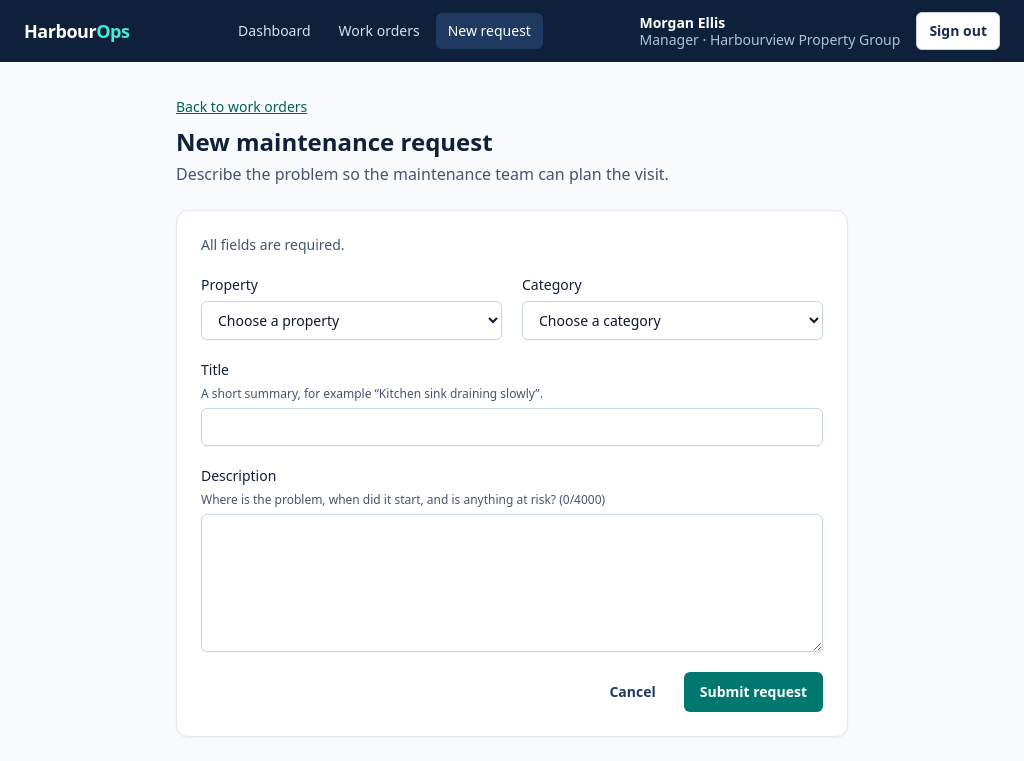
Test: CreateWorkOrderPage › submits and opens the new work order
This screenshot has width=1024, height=761.
Select "Quayside Lofts (Halifax)" in the dropdown labelled "Property" at [352, 320], box [201,301,502,340]
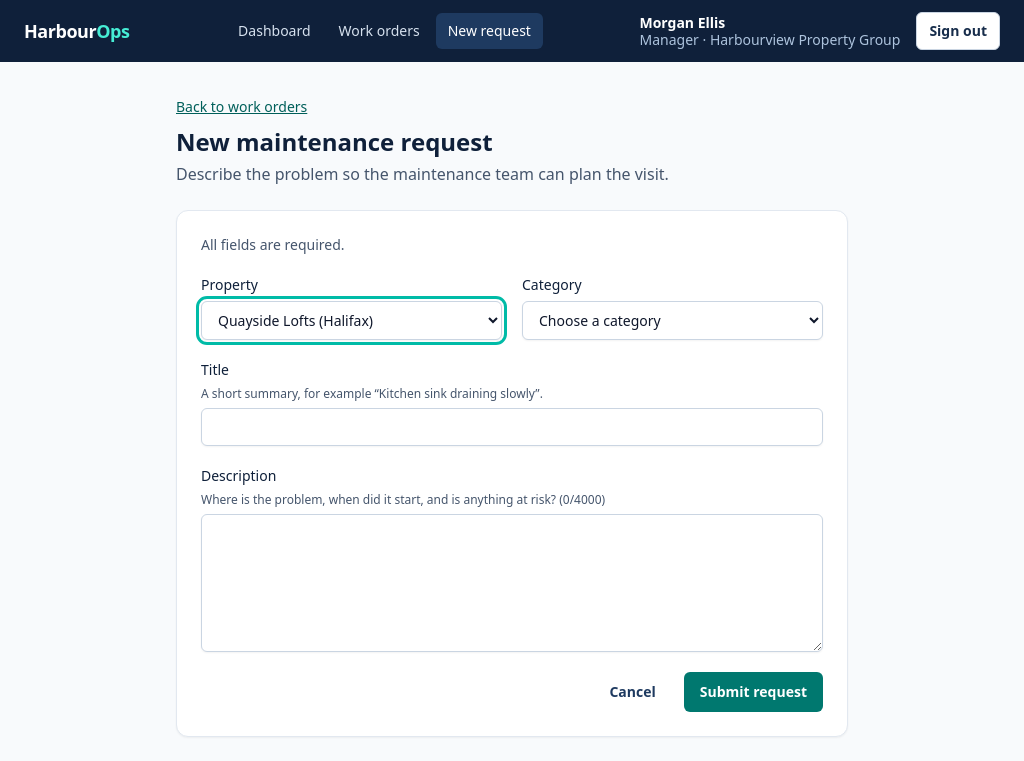
Select "Plumbing" in the dropdown labelled "Category" at [672, 320], box [522,301,823,340]
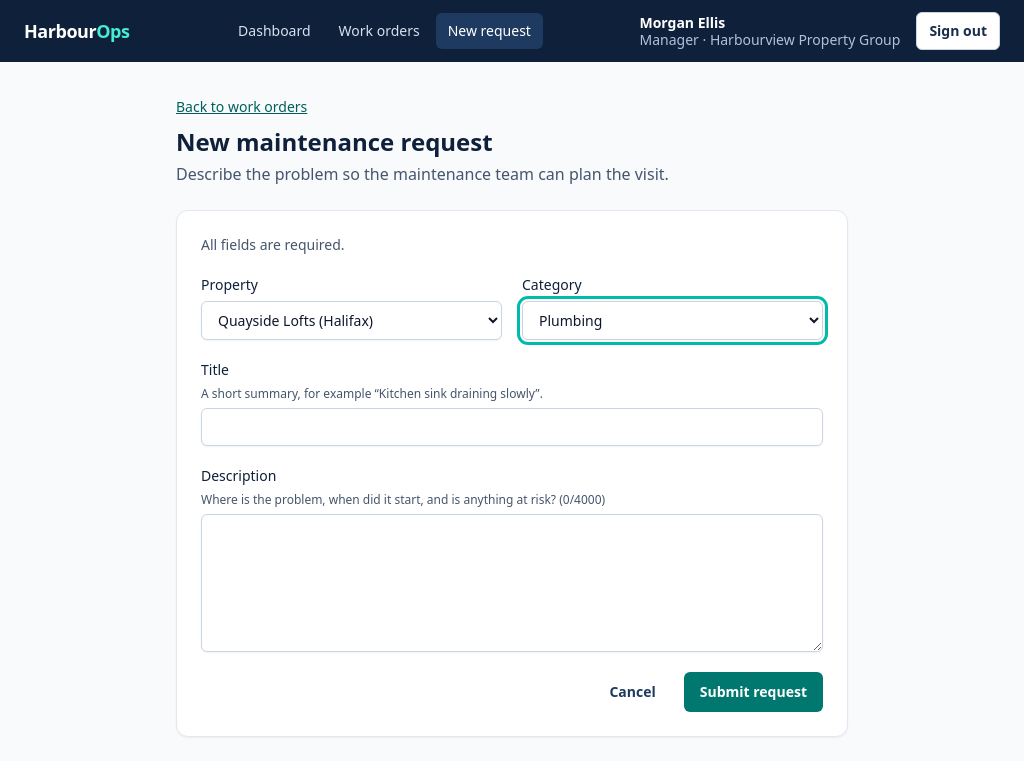
Type "  Leaking tap " into the field labelled "Title" at [512, 427], box [201,408,823,446]
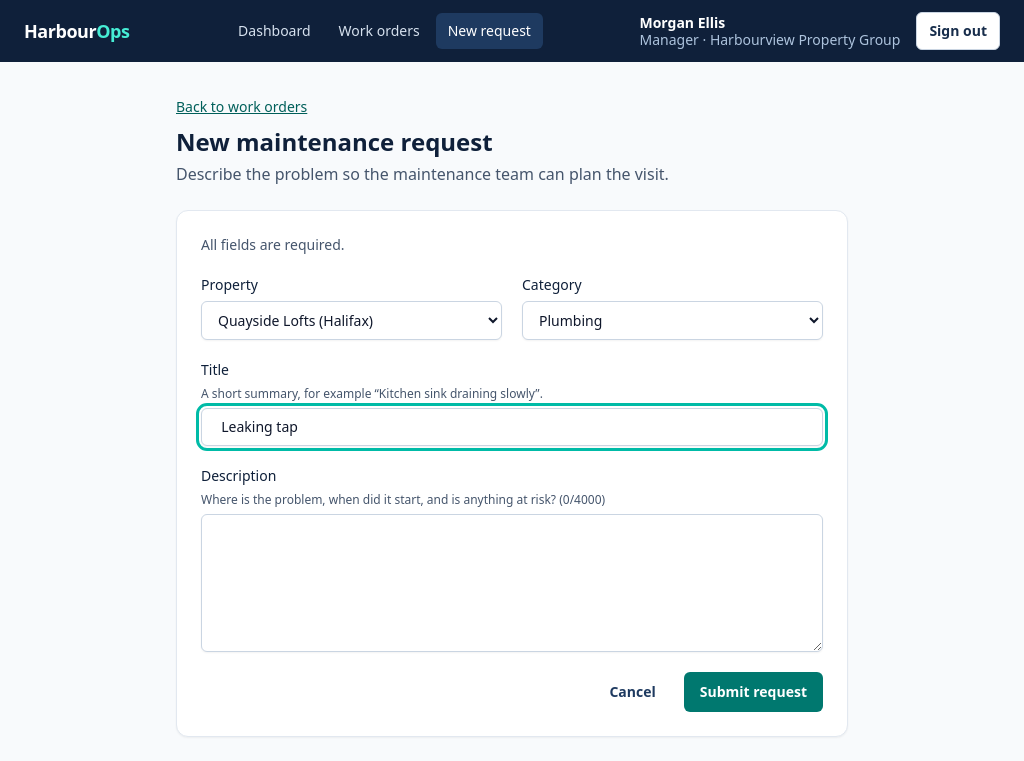
Type "Drips constantly." into the text box labelled "Description" at [512, 583], box [201,514,823,652]
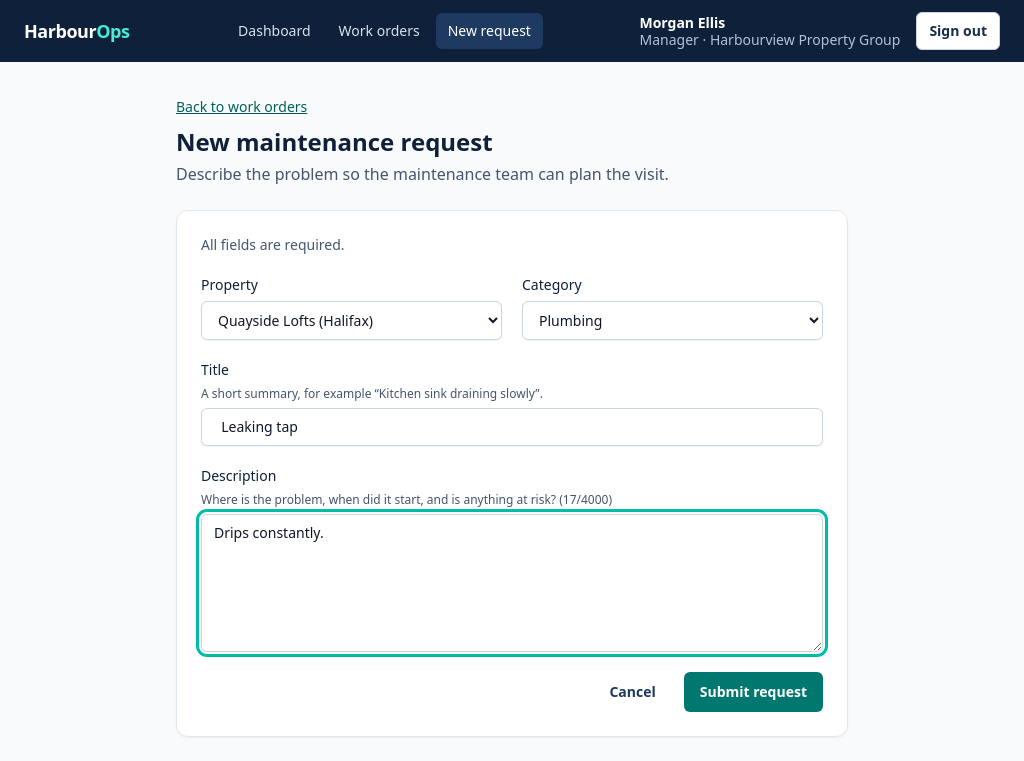
Click the button "Submit request" at [753, 692], box [684,672,823,712]
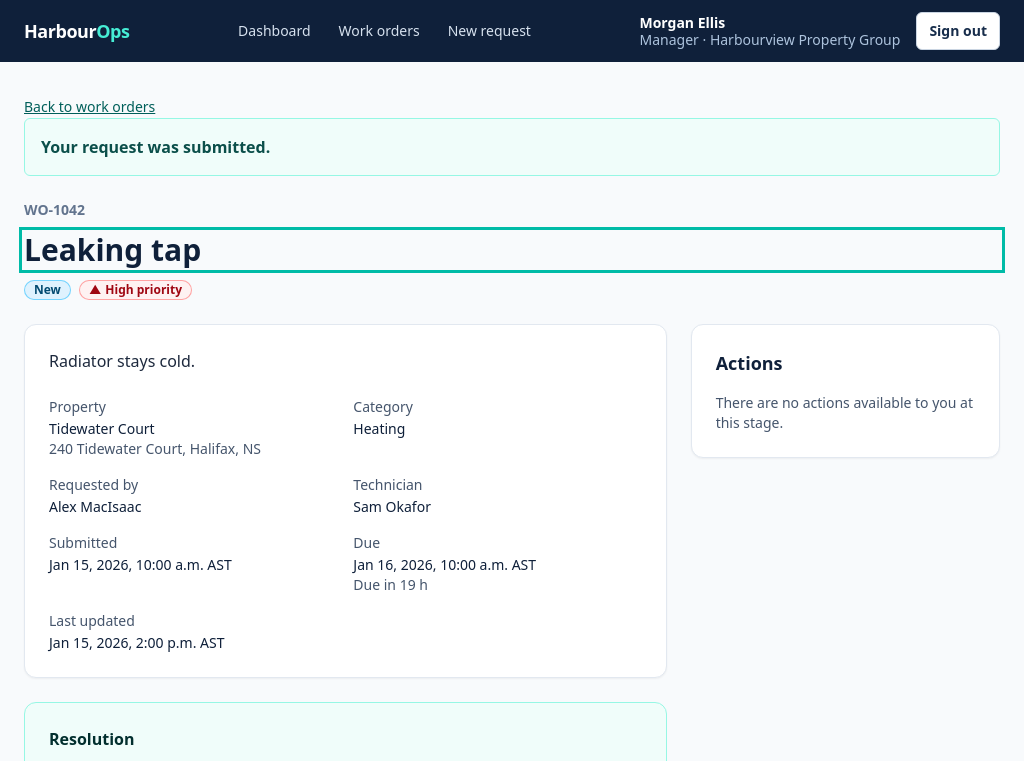
Result: the text "Your request was submitted." is shown at [41,136,270,158]
